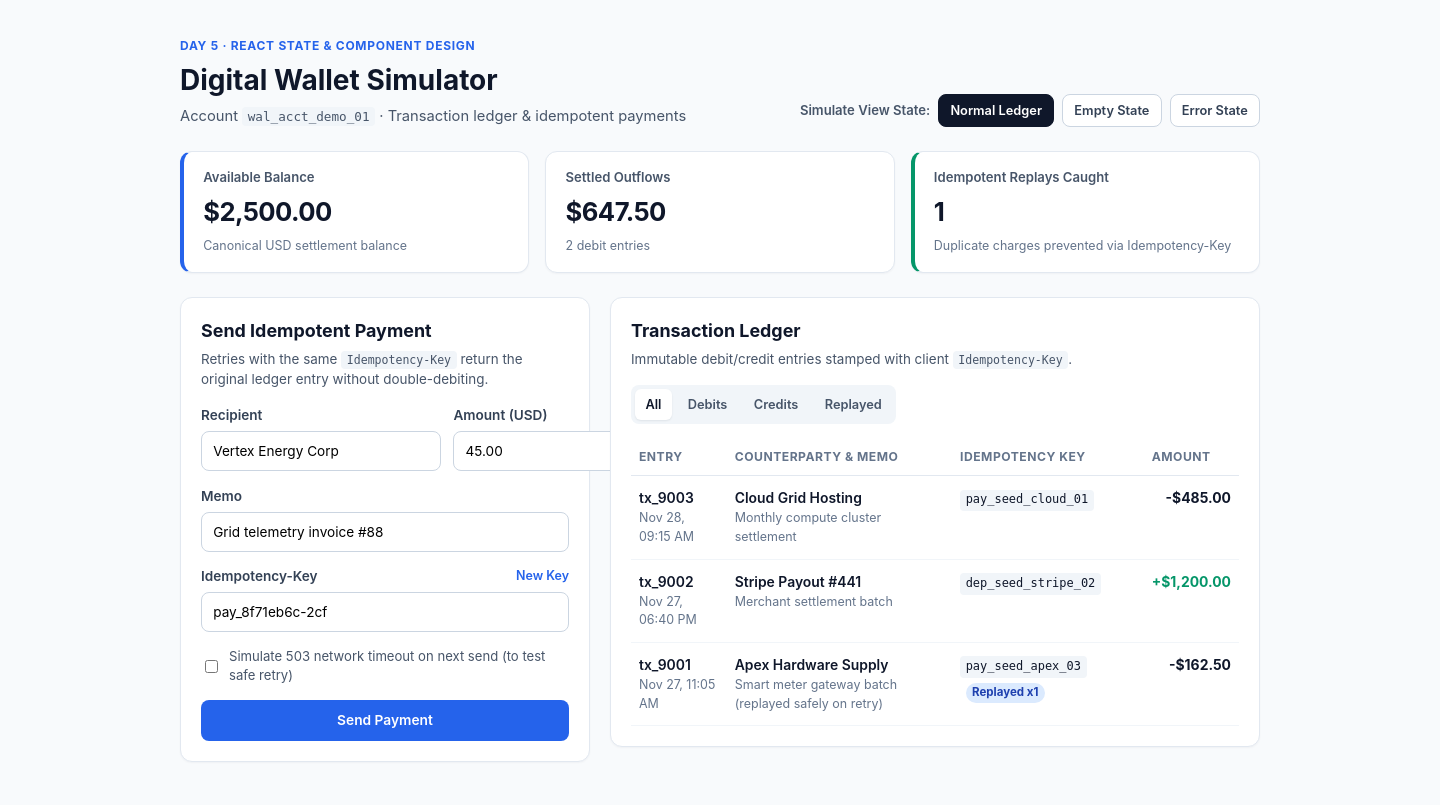
it: WalletDashboard (Day 5 React State & Component Design) › preserves Idempotency-Key across a 503 timeout, settles once, and replays safely without double debiting
Expected: the text "$2,500.00" is shown, top-left (203, 196), bottom-right (332, 227)
Note: Simulate a 503 network timeout before confirmation
Click the checkbox labelled "Simulate 503 network timeout" at point(212, 666), box top-left (205, 660), bottom-right (218, 673)
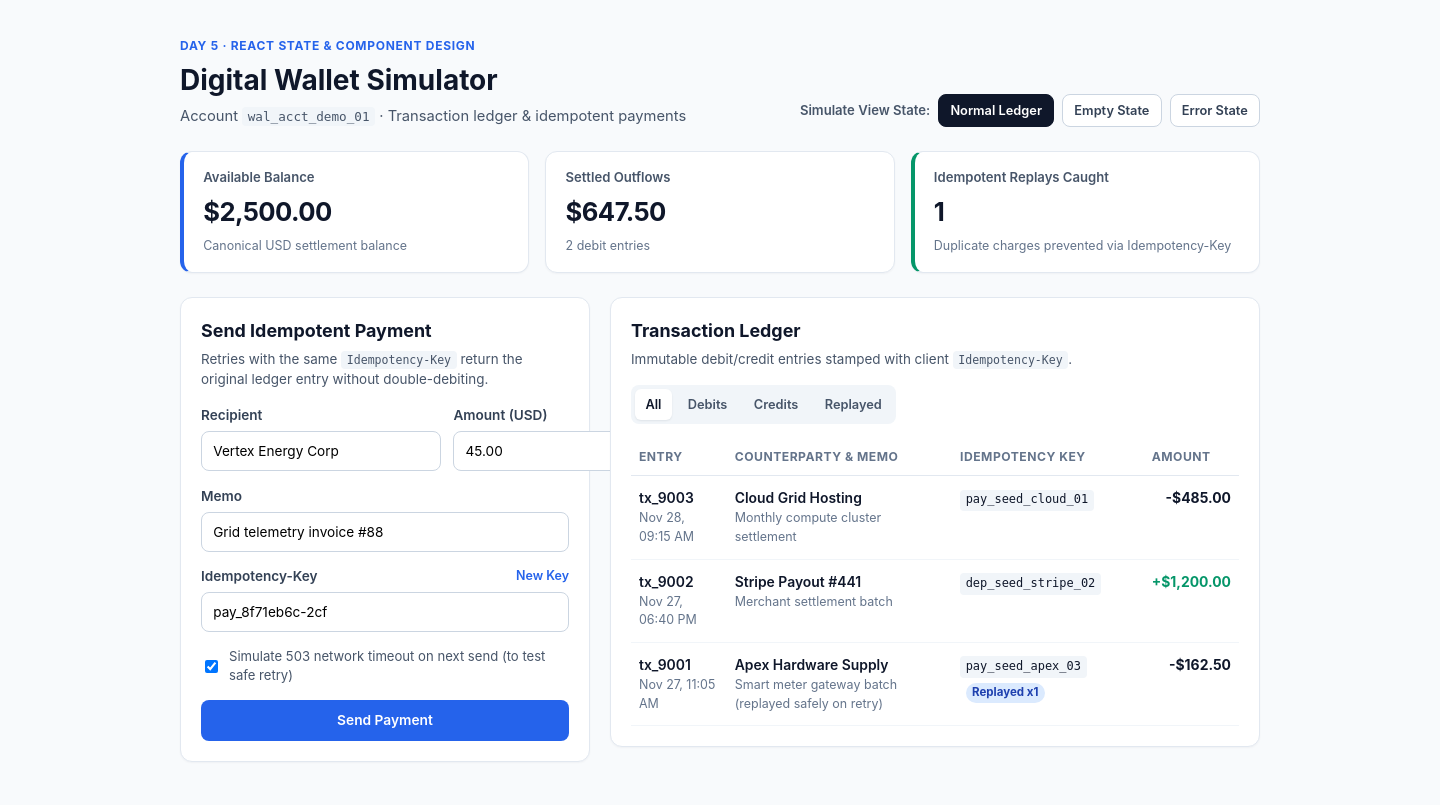
Click the button "Send Payment" at point(385, 720), box top-left (201, 700), bottom-right (569, 740)
(page scrolled)
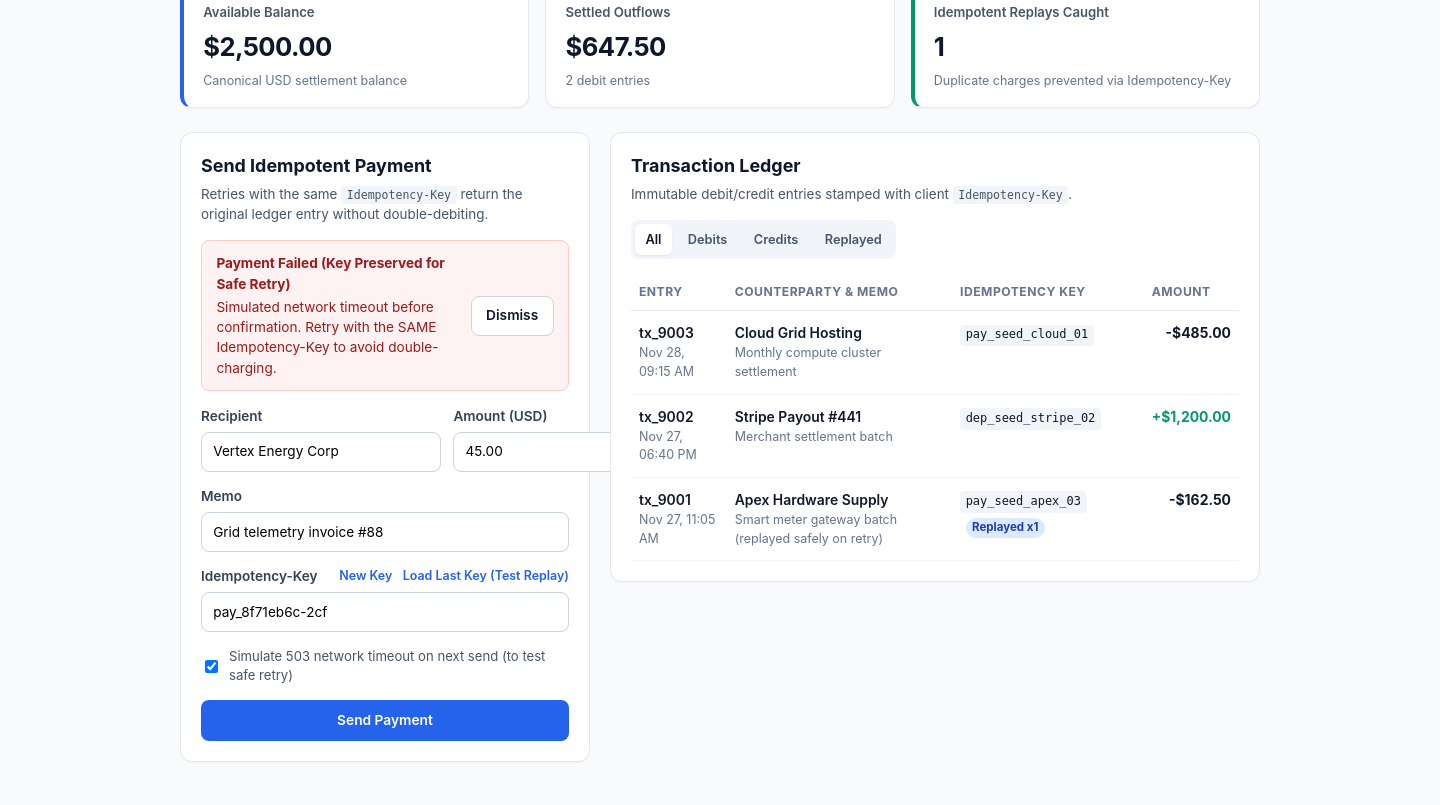
Expected: the text "$2,500.00" is shown, top-left (203, 31), bottom-right (332, 62)
Expected: the text "Simulated network timeout" is shown, top-left (216, 299), bottom-right (438, 376)
Click the checkbox labelled "Simulate 503 network timeout" at point(212, 666), box top-left (205, 660), bottom-right (218, 673)
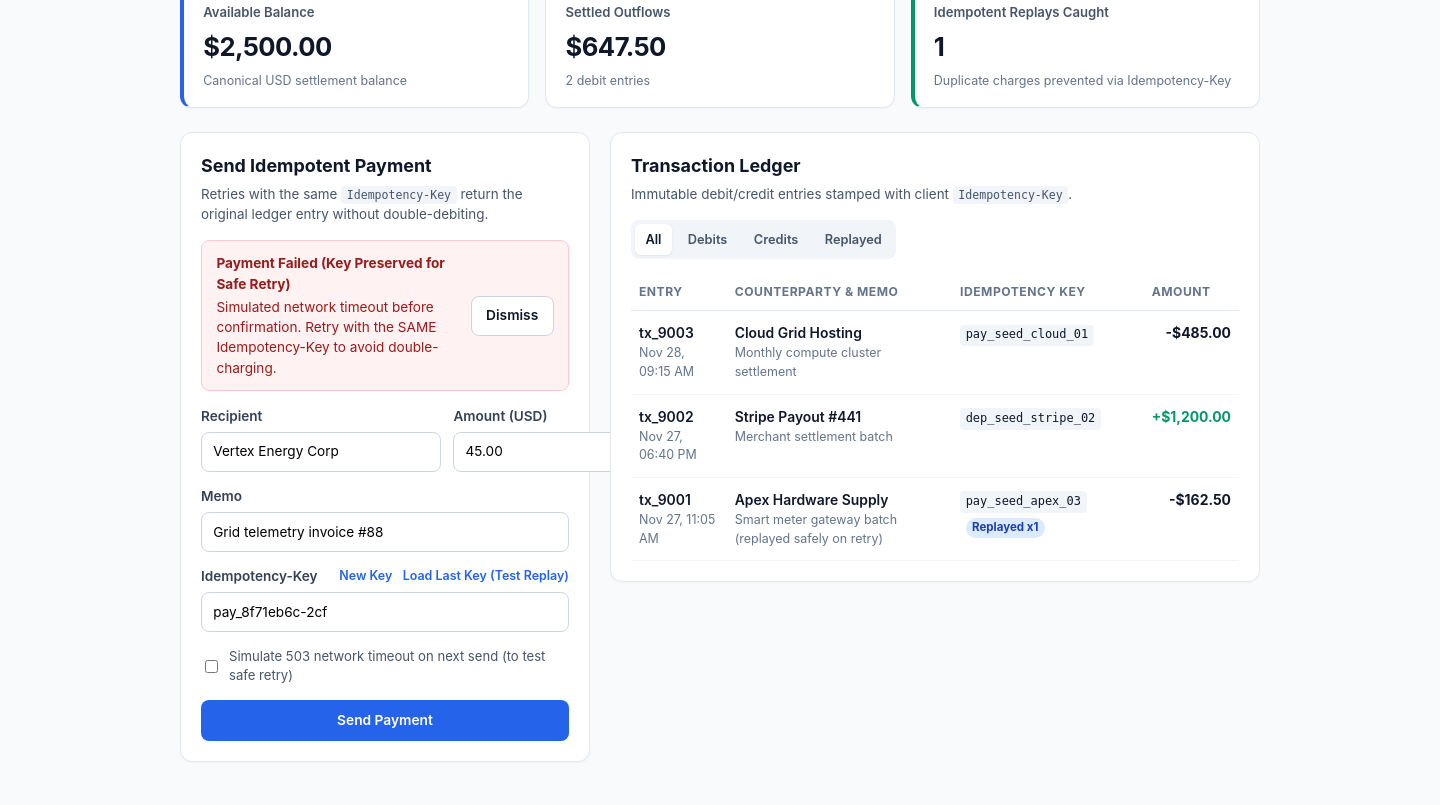
Click the button "Send Payment" at point(385, 720), box top-left (201, 700), bottom-right (569, 741)
(page scrolled)
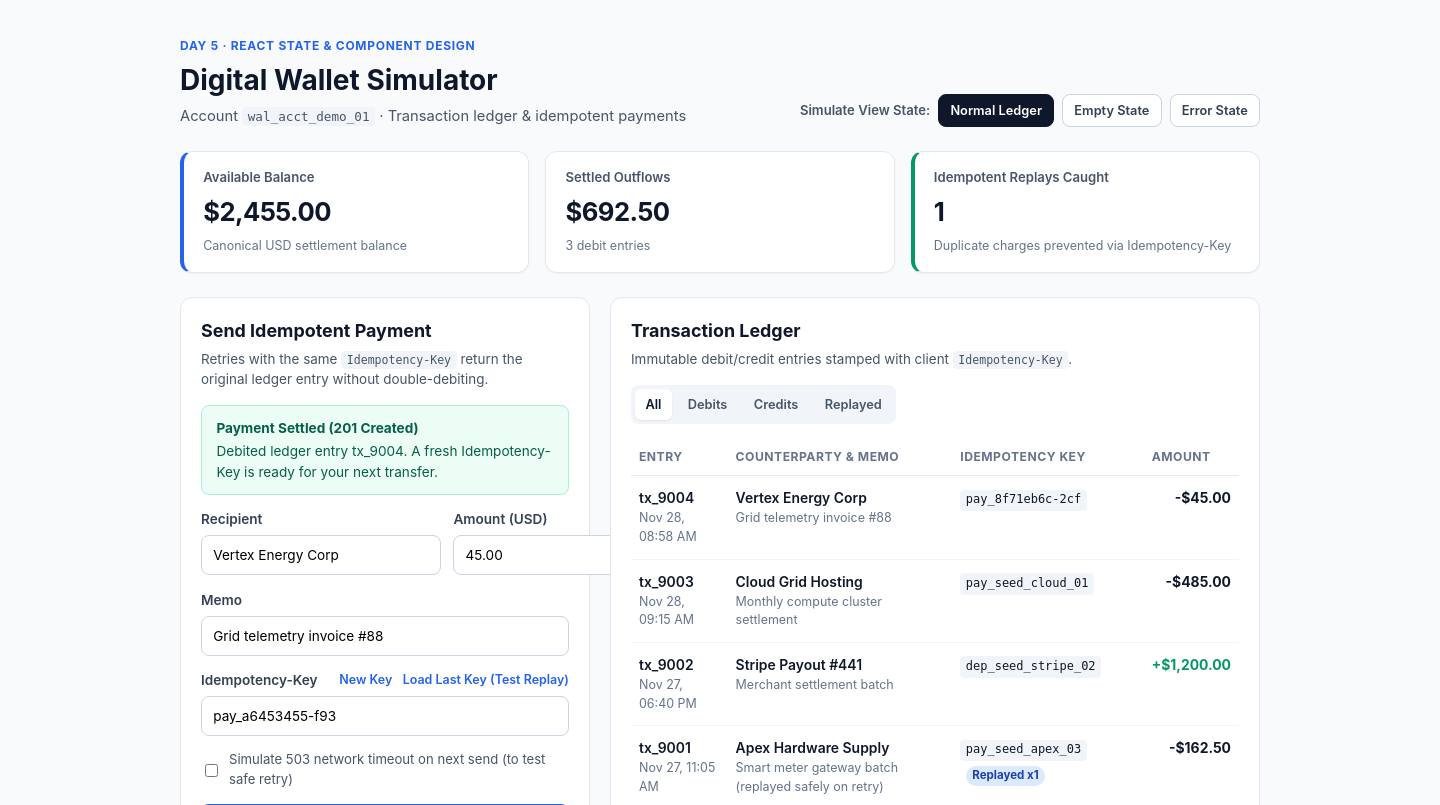
Expected: the text "Payment Settled (201 Created)" is shown, top-left (216, 420), bottom-right (419, 436)
Expected: the text "$2,455.00" is shown, top-left (203, 196), bottom-right (331, 227)
Expected: the text "Vertex Energy Corp" is shown, top-left (736, 490), bottom-right (867, 506)
Click the button "Load Last Key (Test Replay)" at point(486, 680), box top-left (403, 671), bottom-right (569, 690)
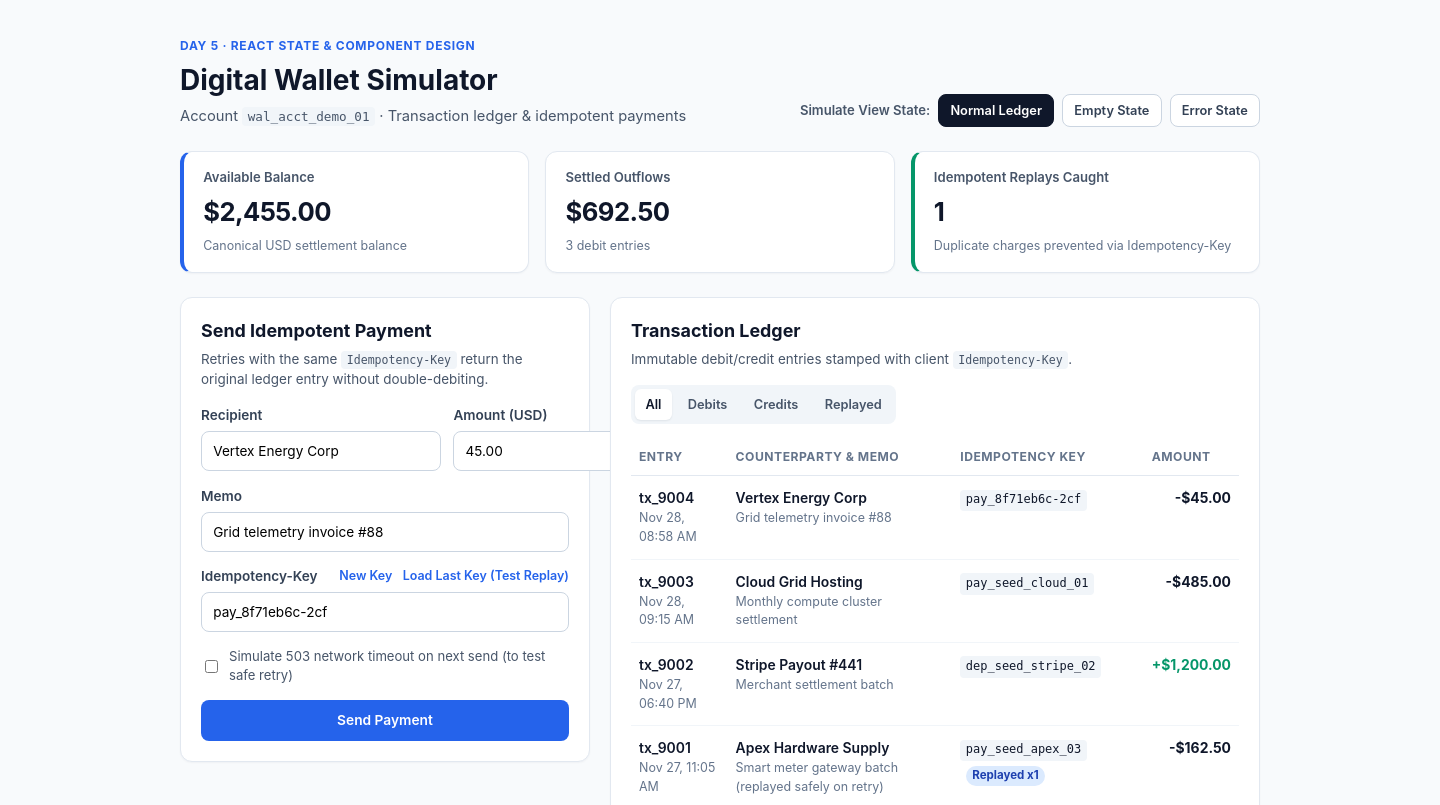
Click the button "Send Payment" at point(385, 720), box top-left (201, 700), bottom-right (569, 740)
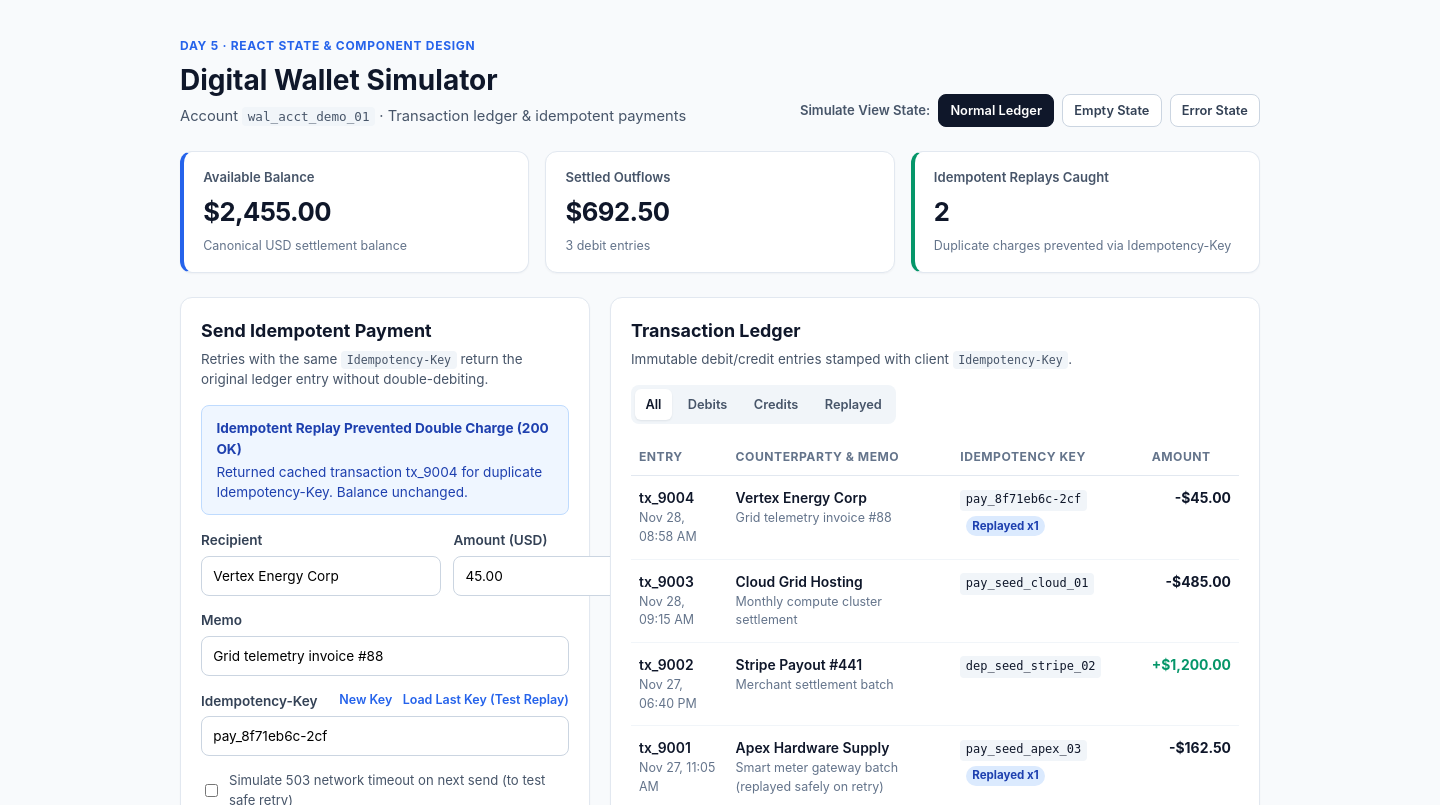
Expected: the text "$2,455.00" is shown, top-left (203, 196), bottom-right (331, 227)
Expected: the text "Idempotent Replay Prevented Double Charge (200 OK)" is shown, top-left (216, 418), bottom-right (554, 459)
Expected: the 1st text "Replayed x1" is shown, top-left (966, 516), bottom-right (1045, 536)
